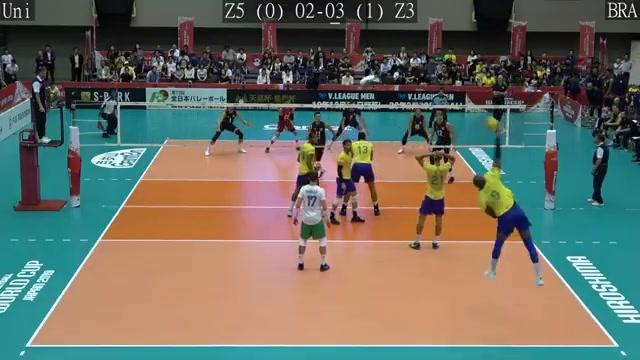ball: (486, 115, 502, 132)
